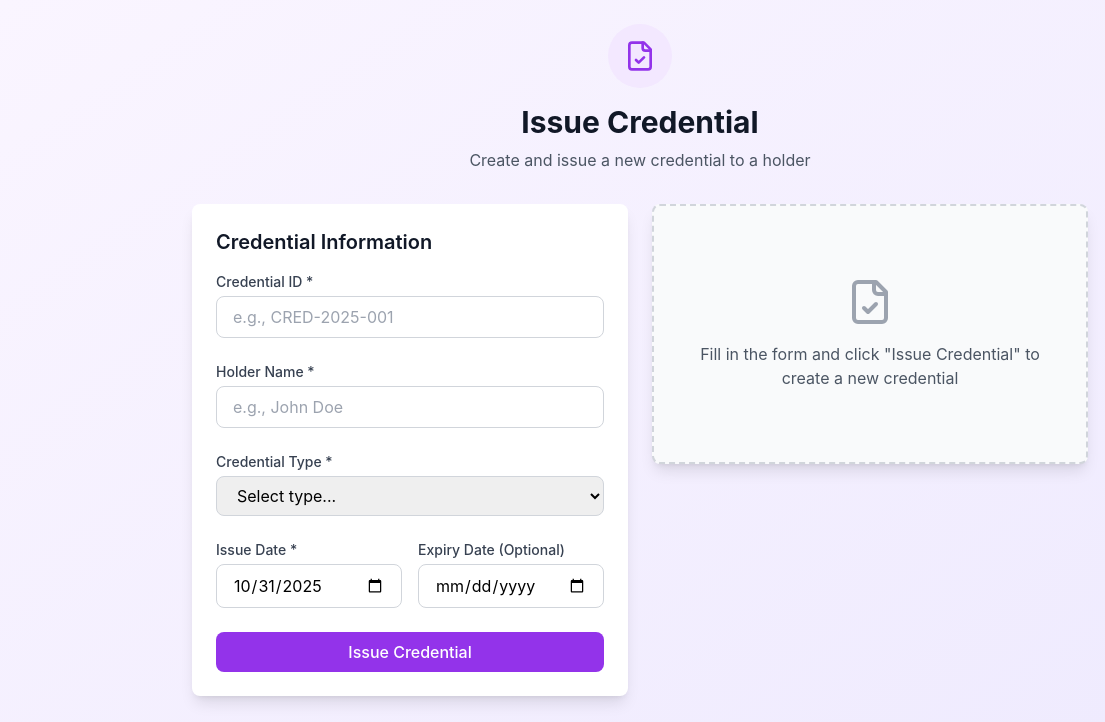
Test case: IssuancePage › shows error alert on failure
Type "CRED-1" into the field labelled "Credential ID *" at (410, 317), box [216,296,604,338]
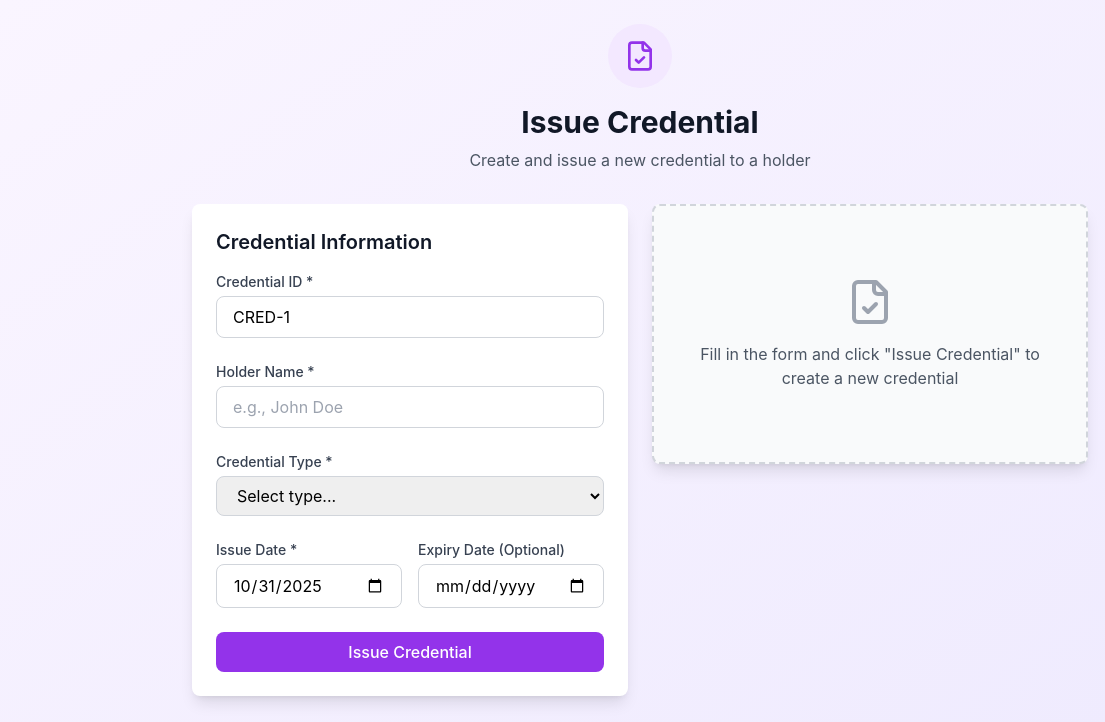
Type "John Doe" into the field labelled "Holder Name *" at (410, 407), box [216,386,604,428]
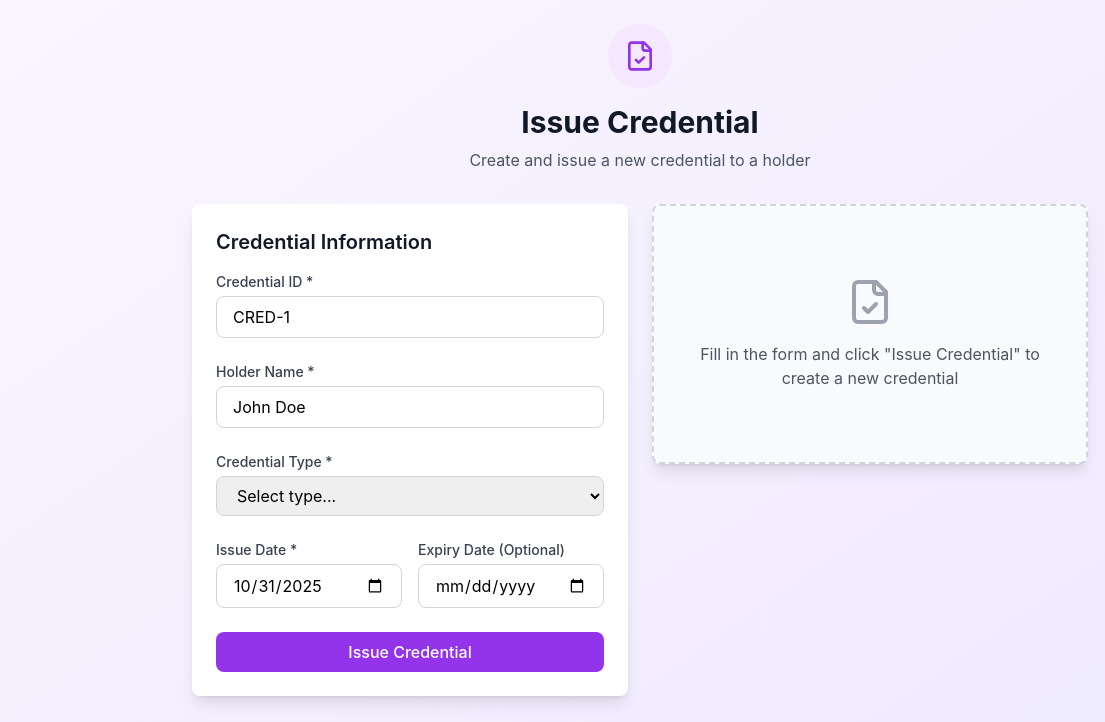
Select "Passport" in the dropdown labelled "Credential Type *" at (410, 496), box [216,476,604,516]
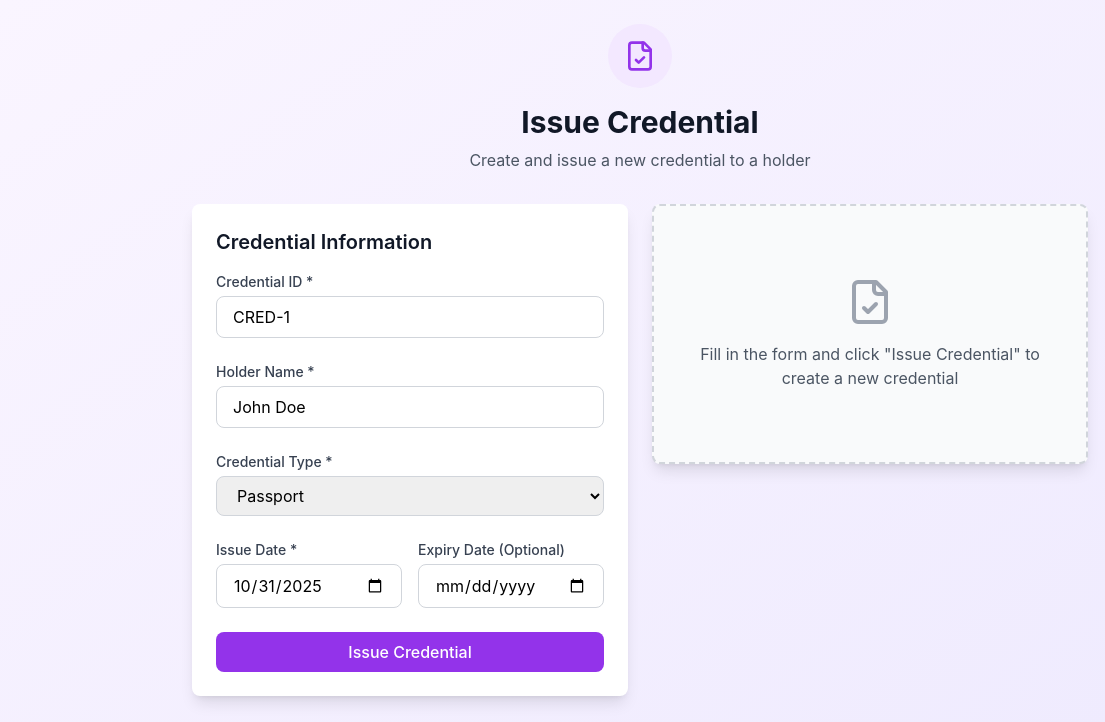
Click the button "Issue Credential" at (410, 652), box [216,632,604,672]
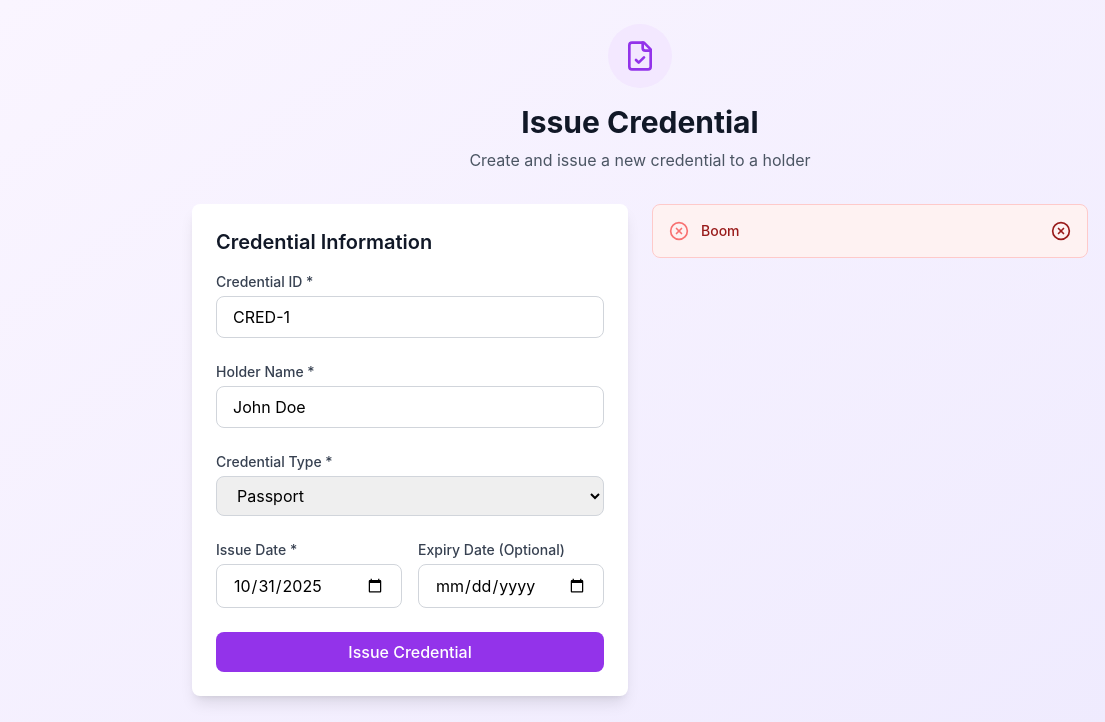
Check: the text "Boom" is shown, box [701,222,740,239]
